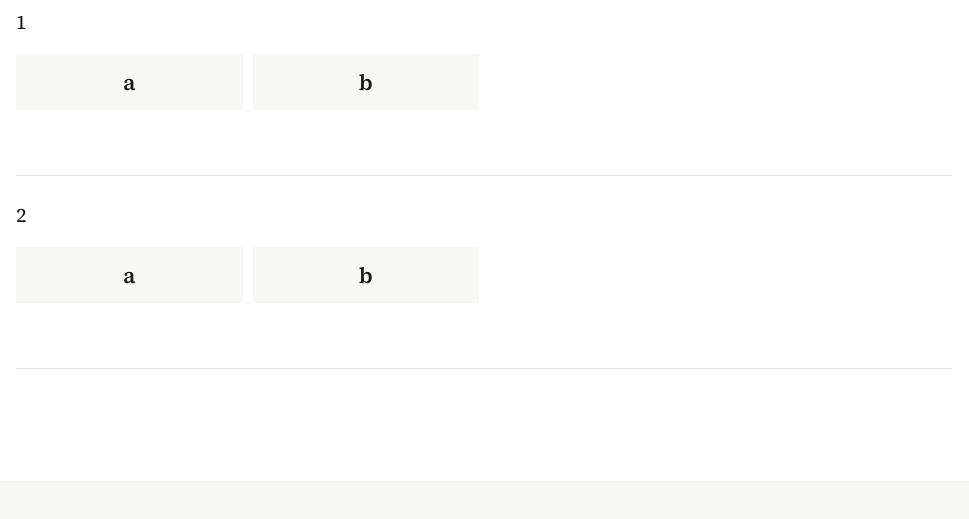
Test case: lesson fixes from the final review › a failed section test can be taken again
Step 1. Click the 1st button "b" → coordinates (366, 82), box [252,54,479,110]
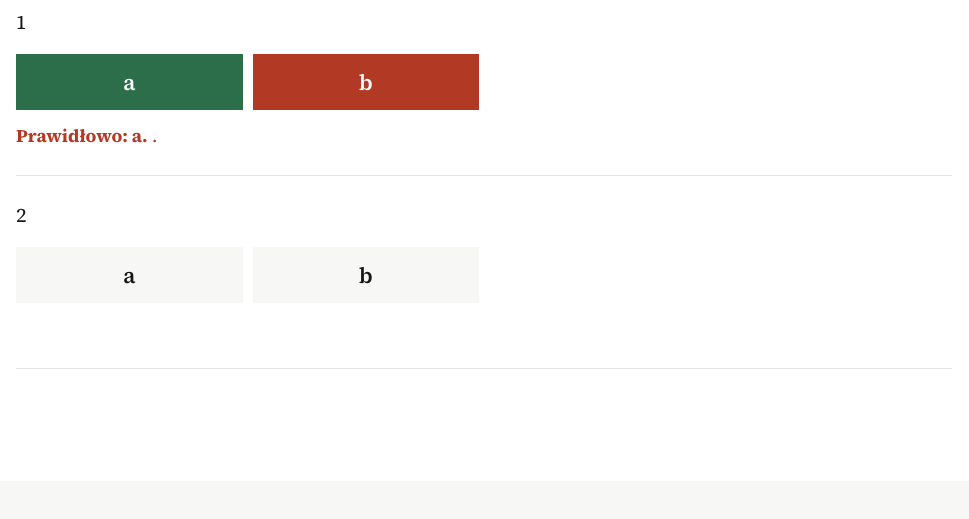
Step 2. Click the 2nd button "b" → coordinates (366, 275), box [252,247,479,303]
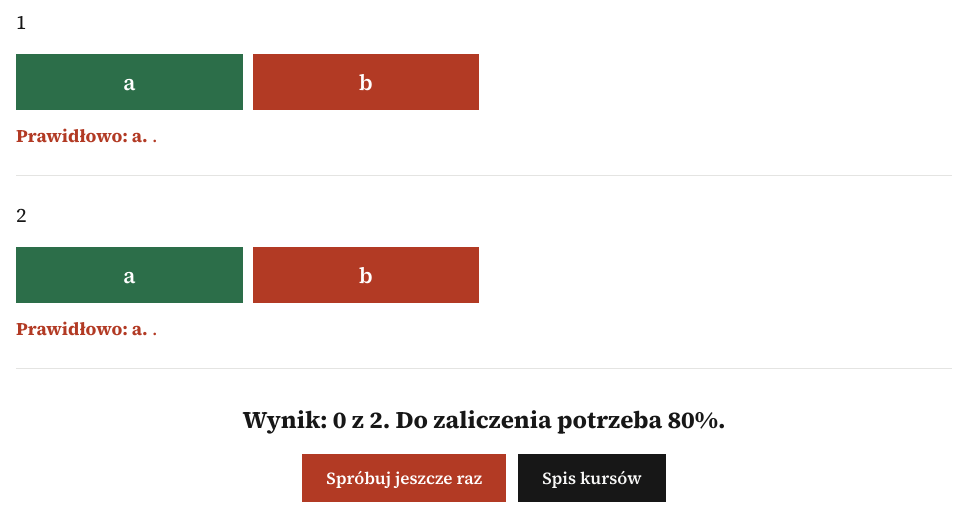
expect the text "Wynik: 0 z 2. Do zaliczenia potrzeba 80%." is shown: met, box [242,401,726,438]
Step 3. Click the button "Spróbuj jeszcze raz" → coordinates (404, 478), box [302,454,506,502]
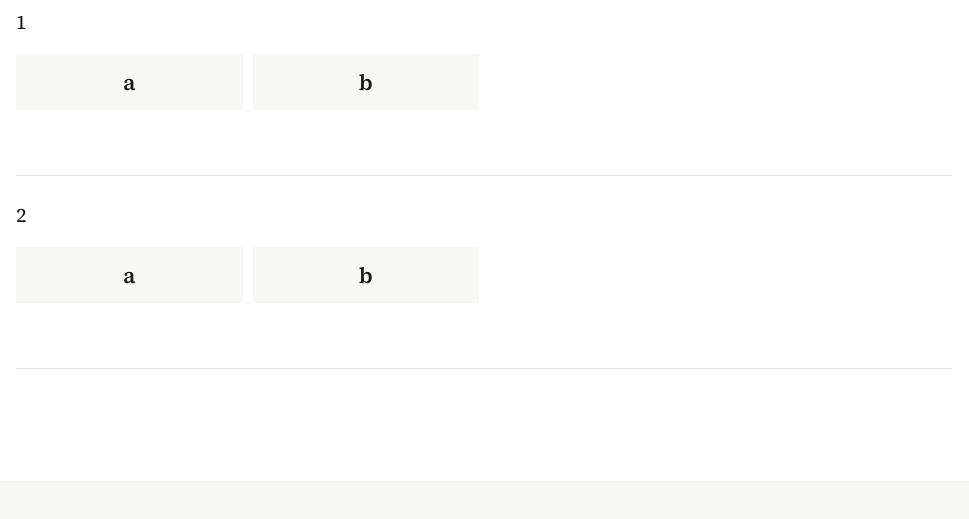
expect the text "Wynik:" is gone: met
expect the 1st button "a" is enabled: met, box [16,54,242,110]
